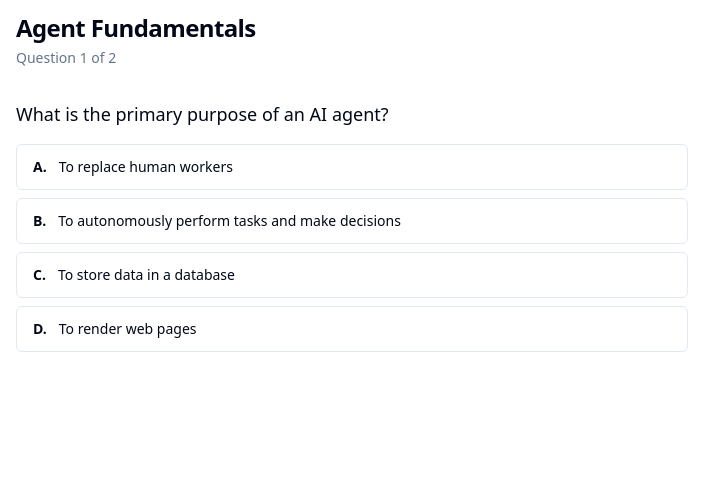
Test: QuizPage › advances to next question when Next Question is clicked
Expected: the text "What is the primary purpose of an AI agent?" is shown, [16,102,389,126]
Step 1. Click the button "B. To autonomously perform tasks and make decisions" → (352, 221), box [16,198,688,244]
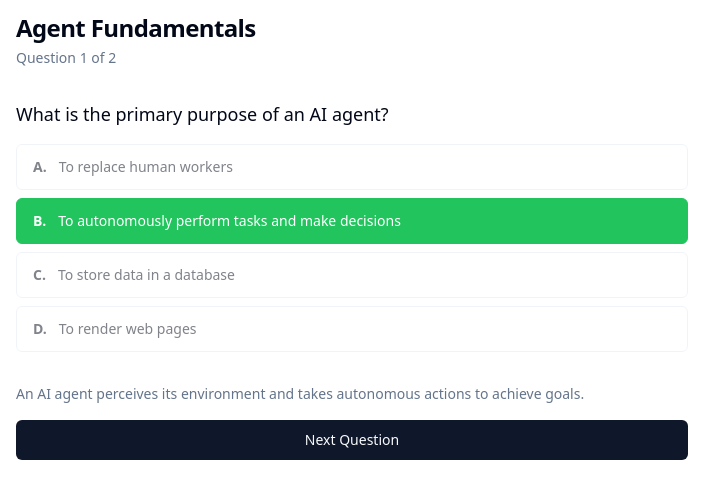
Step 2. Click the button "Next Question" → (352, 440), box [16,420,688,460]
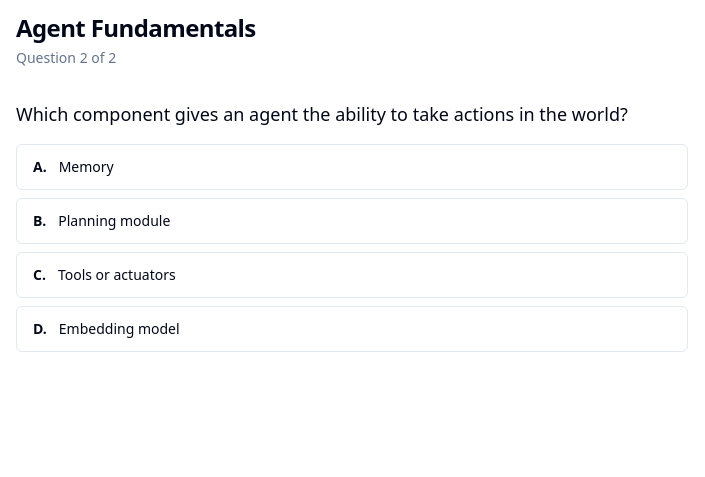
Now the text "Which component gives an agent the ability to take actions in the world?" is shown, box [16,100,688,128]
Now the text "Question 2 of 2" is shown, box [16,48,116,67]
